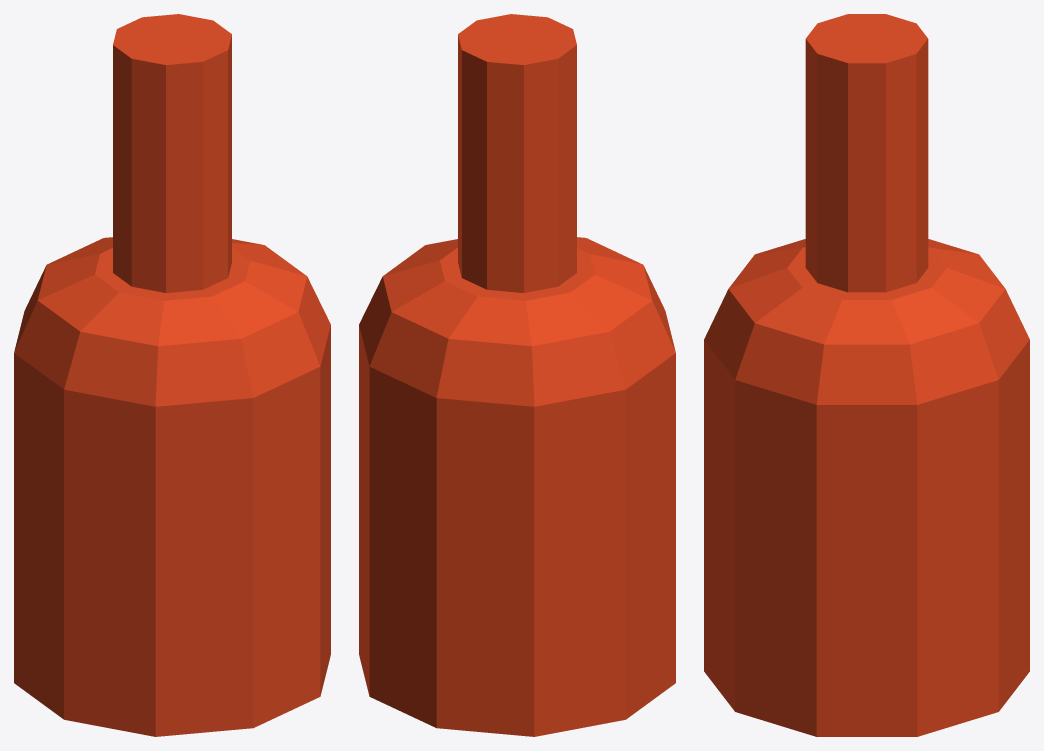
The model's file is Orange_bottle.glb.
The picture shows the model from 3 angles, left to right: view 1: azimuth 30°, elevation 25°; view 2: azimuth 150°, elevation 25°; view 3: azimuth 270°, elevation 25°; orthographic projection.
Visible parts, largest first — view 1: Cylinder; view 2: Cylinder; view 3: Cylinder.
Part boxes in pixels (x1,y1,x2,y2): Cylinder: (14,14,330,736); Cylinder: (359,14,675,736); Cylinder: (704,14,1029,736).
Size of the model in its own units: 1.9 by 4.29 by 2.
